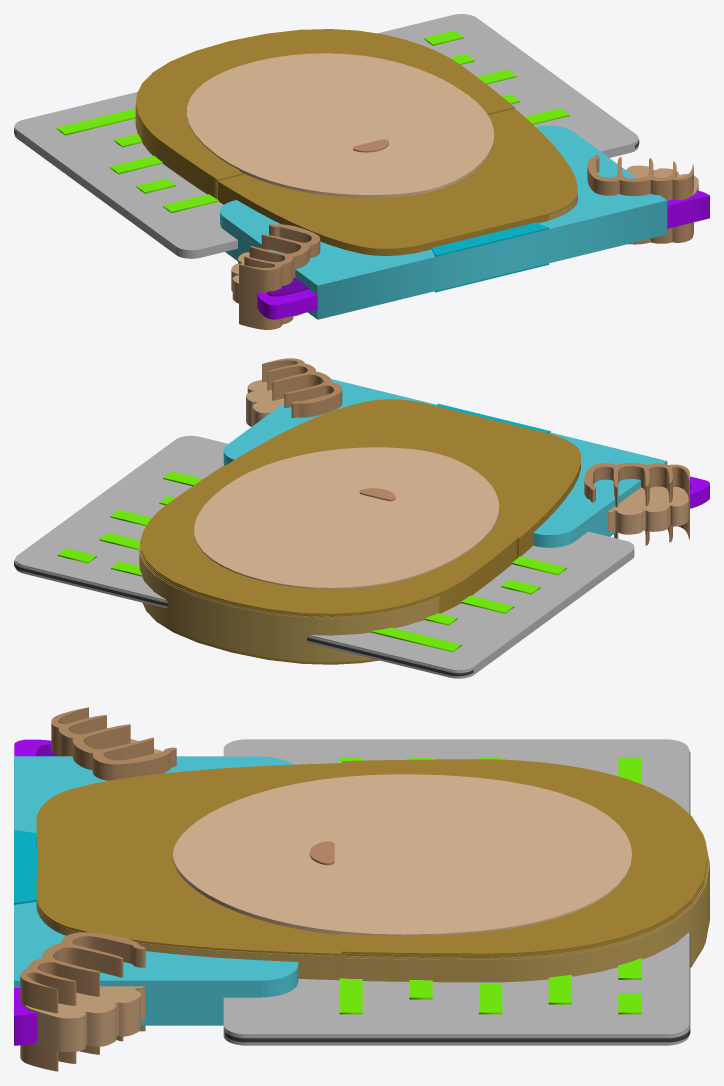
The model's file is emoji_u1f469_1f3fc_200d_1f4bb.glb.
The picture shows the model from 3 angles, top to bottom: view 1: azimuth 30°, elevation 25°; view 2: azimuth 150°, elevation 25°; view 3: azimuth 270°, elevation 25°; orthographic projection. The views are drawn at different scales.
Visible parts, largest first — view 1: emoji_u1f469_1f3fc_200d_1f4bb; view 2: emoji_u1f469_1f3fc_200d_1f4bb; view 3: emoji_u1f469_1f3fc_200d_1f4bb.
Boxes of the visible parts, <box> form: emoji_u1f469_1f3fc_200d_1f4bb: <box>14,14,709,329</box>; emoji_u1f469_1f3fc_200d_1f4bb: <box>14,358,709,678</box>; emoji_u1f469_1f3fc_200d_1f4bb: <box>14,707,709,1071</box>.
Bounding box in the file's own units: 0.0339 × 0.0044 × 0.0337.
